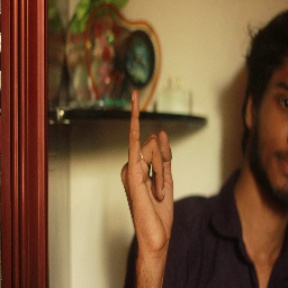I: (114, 88, 185, 249)
